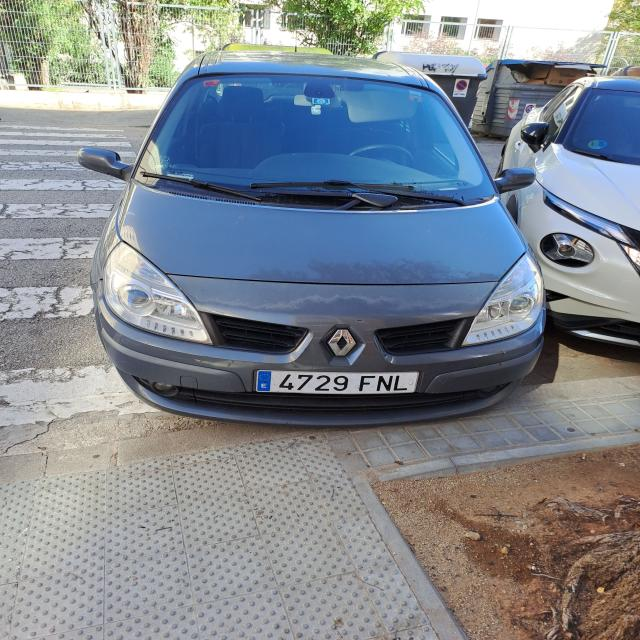license_plate-34Td: (255, 370, 419, 395)
